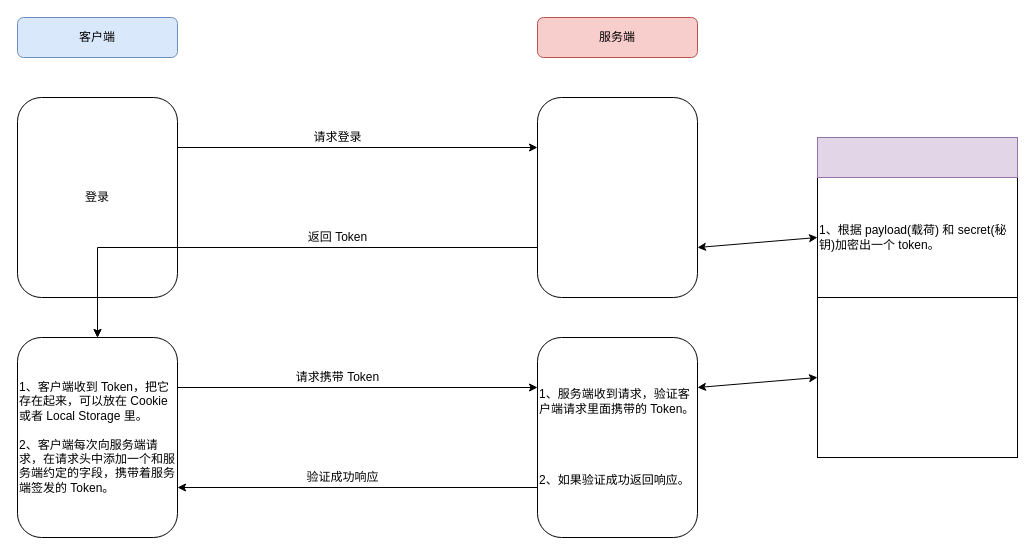
This 1035x555 diagram has some shape labels left out. Here are the shapes that lost their labels. From the top down, the centre of each, then its label:
At point 917,157: "JWT 加密".
At point 617,197: "1、客户端使用用户名和密码请求登录。 2、服务端收到请求，验证账号密码。 3、验证成功后，服务端会签发一个令牌（Token），再把 这个 Token 发回客户端".
At point 917,377: "1、根据 payload(载荷) 和 secret(秘钥) 算出哈希，去和 jwt token 的第三个参数的哈希是否一致。".
